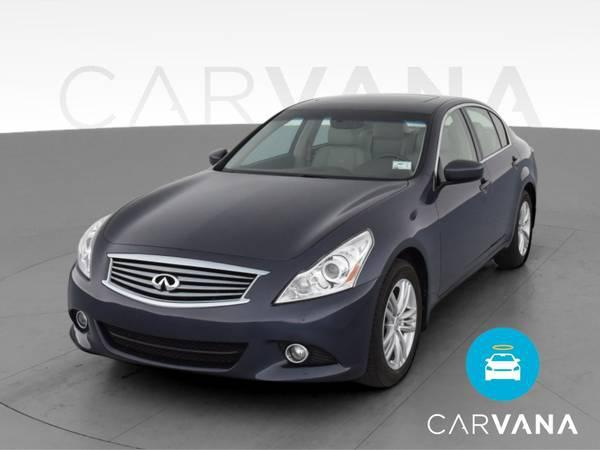Front_Bumper: (60, 233, 377, 382)
Front_Fender: (356, 174, 441, 307)
Front_Left_Door: (437, 163, 493, 294)
Front_Left_Window: (434, 106, 482, 184)
Front_Windshield: (210, 110, 428, 181)
Grille: (102, 253, 266, 306)
Hood: (100, 169, 408, 271)
Left_Headlight: (268, 228, 371, 304)
Rear_Left_Door: (481, 138, 528, 260)
Rear_Left_Window: (464, 107, 514, 163)
Right_Headlight: (73, 219, 107, 283)
Roof: (285, 89, 520, 178)
Wheel: (368, 258, 425, 377), (516, 190, 538, 258)
